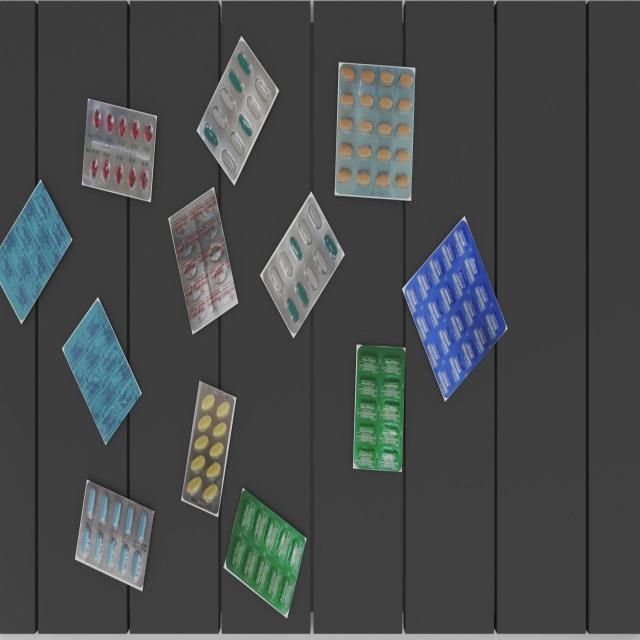blister: (405, 210, 507, 402), (333, 61, 416, 202), (262, 197, 343, 337), (63, 300, 141, 444), (200, 38, 276, 182), (0, 180, 71, 327), (168, 187, 238, 334), (226, 489, 306, 617), (74, 480, 156, 598), (83, 98, 155, 202), (182, 384, 234, 511), (357, 342, 406, 469)
